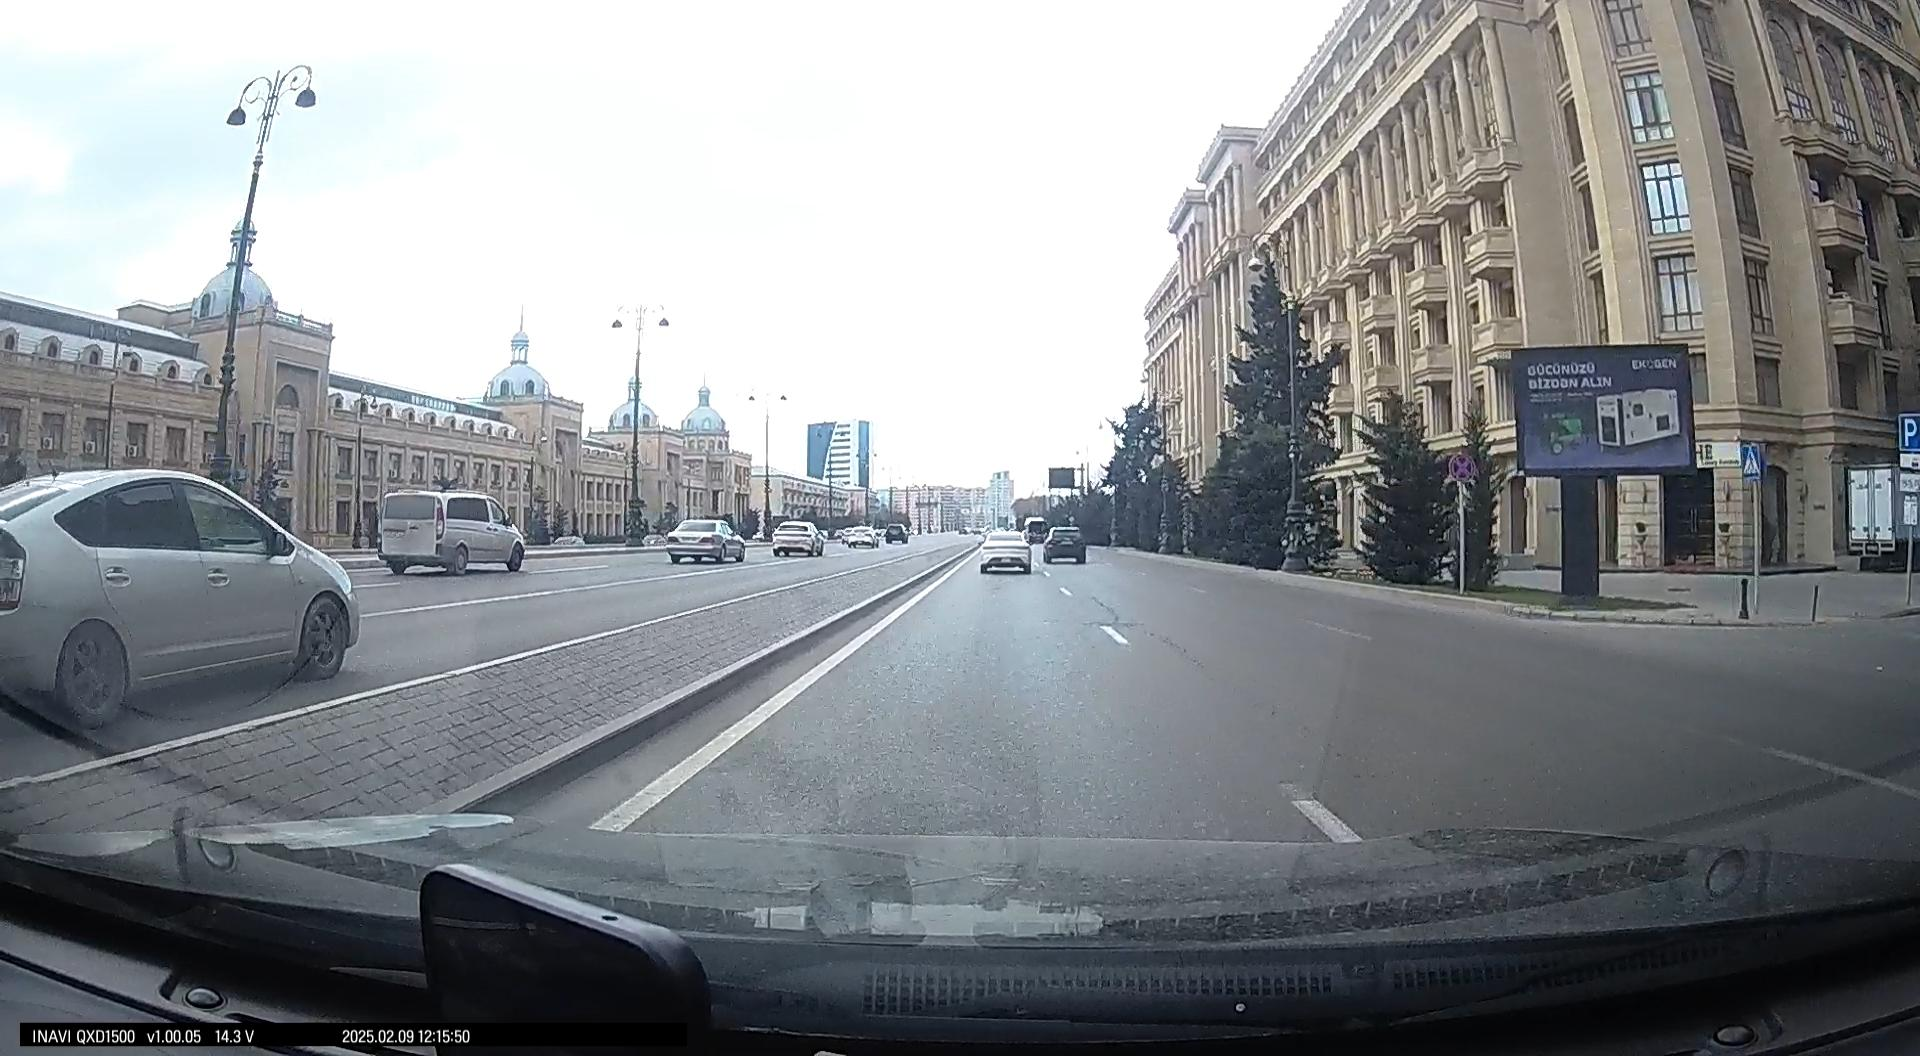banner: (1511, 345, 1698, 477)
